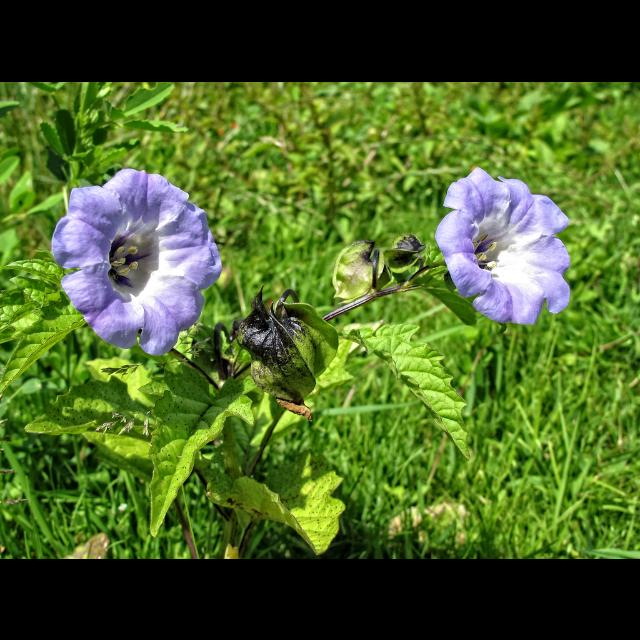Flower: (55, 165, 222, 358), (438, 168, 572, 326)
